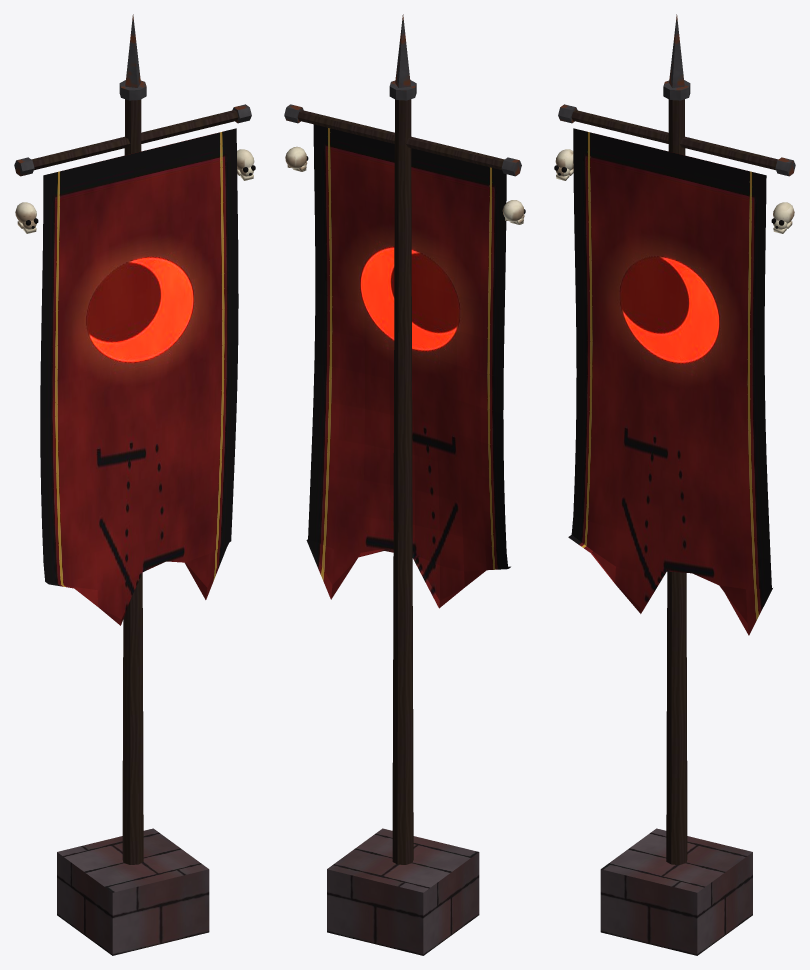
File: demon_banner.glb
3 views of the same model, side by side, from view 1: azimuth 30°, elevation 25°; view 2: azimuth 150°, elevation 25°; view 3: azimuth 330°, elevation 25° (orthographic).
Parts seen in each view (by area): view 1: BannerCloth, BannerBase, BannerPole, BannerIron, BannerSkulls; view 2: BannerCloth, BannerPole, BannerBase, BannerIron, BannerSkulls; view 3: BannerCloth, BannerBase, BannerPole, BannerIron, BannerSkulls.
Boxes of the visible parts, left/top/right/bottom form: BannerCloth: left=40, top=128, right=238, bottom=625; BannerBase: left=57, top=828, right=209, bottom=955; BannerPole: left=31, top=99, right=238, bottom=864; BannerIron: left=14, top=14, right=251, bottom=176; BannerSkulls: left=15, top=149, right=254, bottom=233; BannerCloth: left=306, top=124, right=510, bottom=608; BannerPole: left=297, top=99, right=504, bottom=864; BannerBase: left=327, top=828, right=479, bottom=955; BannerIron: left=284, top=14, right=521, bottom=176; BannerSkulls: left=285, top=146, right=524, bottom=224; BannerCloth: left=568, top=128, right=772, bottom=635; BannerBase: left=600, top=828, right=752, bottom=955; BannerPole: left=571, top=99, right=778, bottom=864; BannerIron: left=558, top=14, right=795, bottom=176; BannerSkulls: left=555, top=149, right=794, bottom=233.
Size of what is drawn, in the model's own units: 1.95 by 7.2 by 0.8.
Materials: 6 (5 with a texture image).
